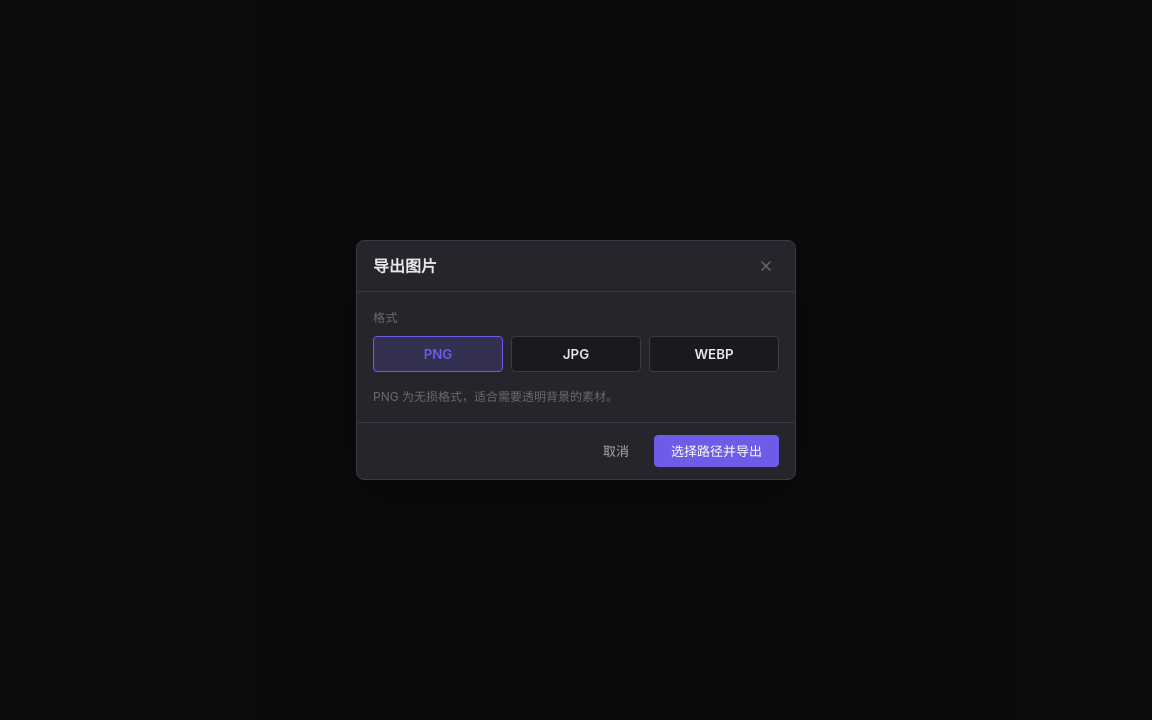
ExportDialog › switching to JPG reveals quality slider at 90
Click the button with class "export-dialog__format" showing "JPG": [576, 354] box x1=511 y1=336 x2=641 y2=372
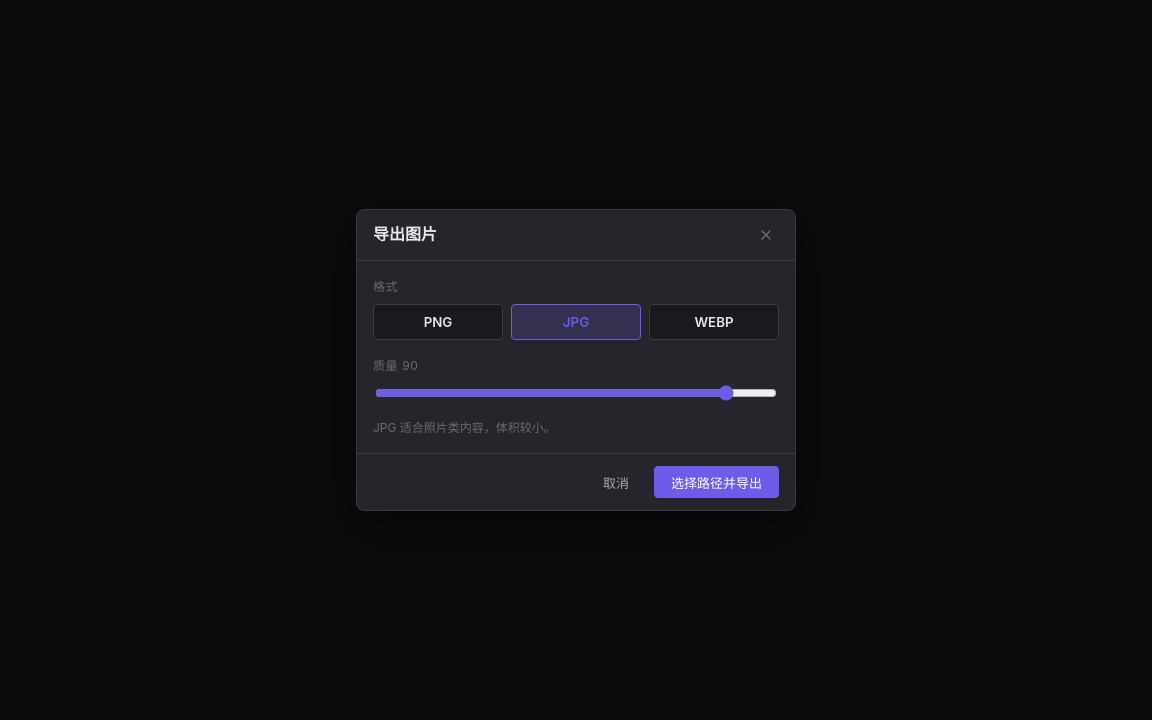
Expected: the slider labelled "质量 90" holds "90", x1=375 y1=385 x2=777 y2=401
